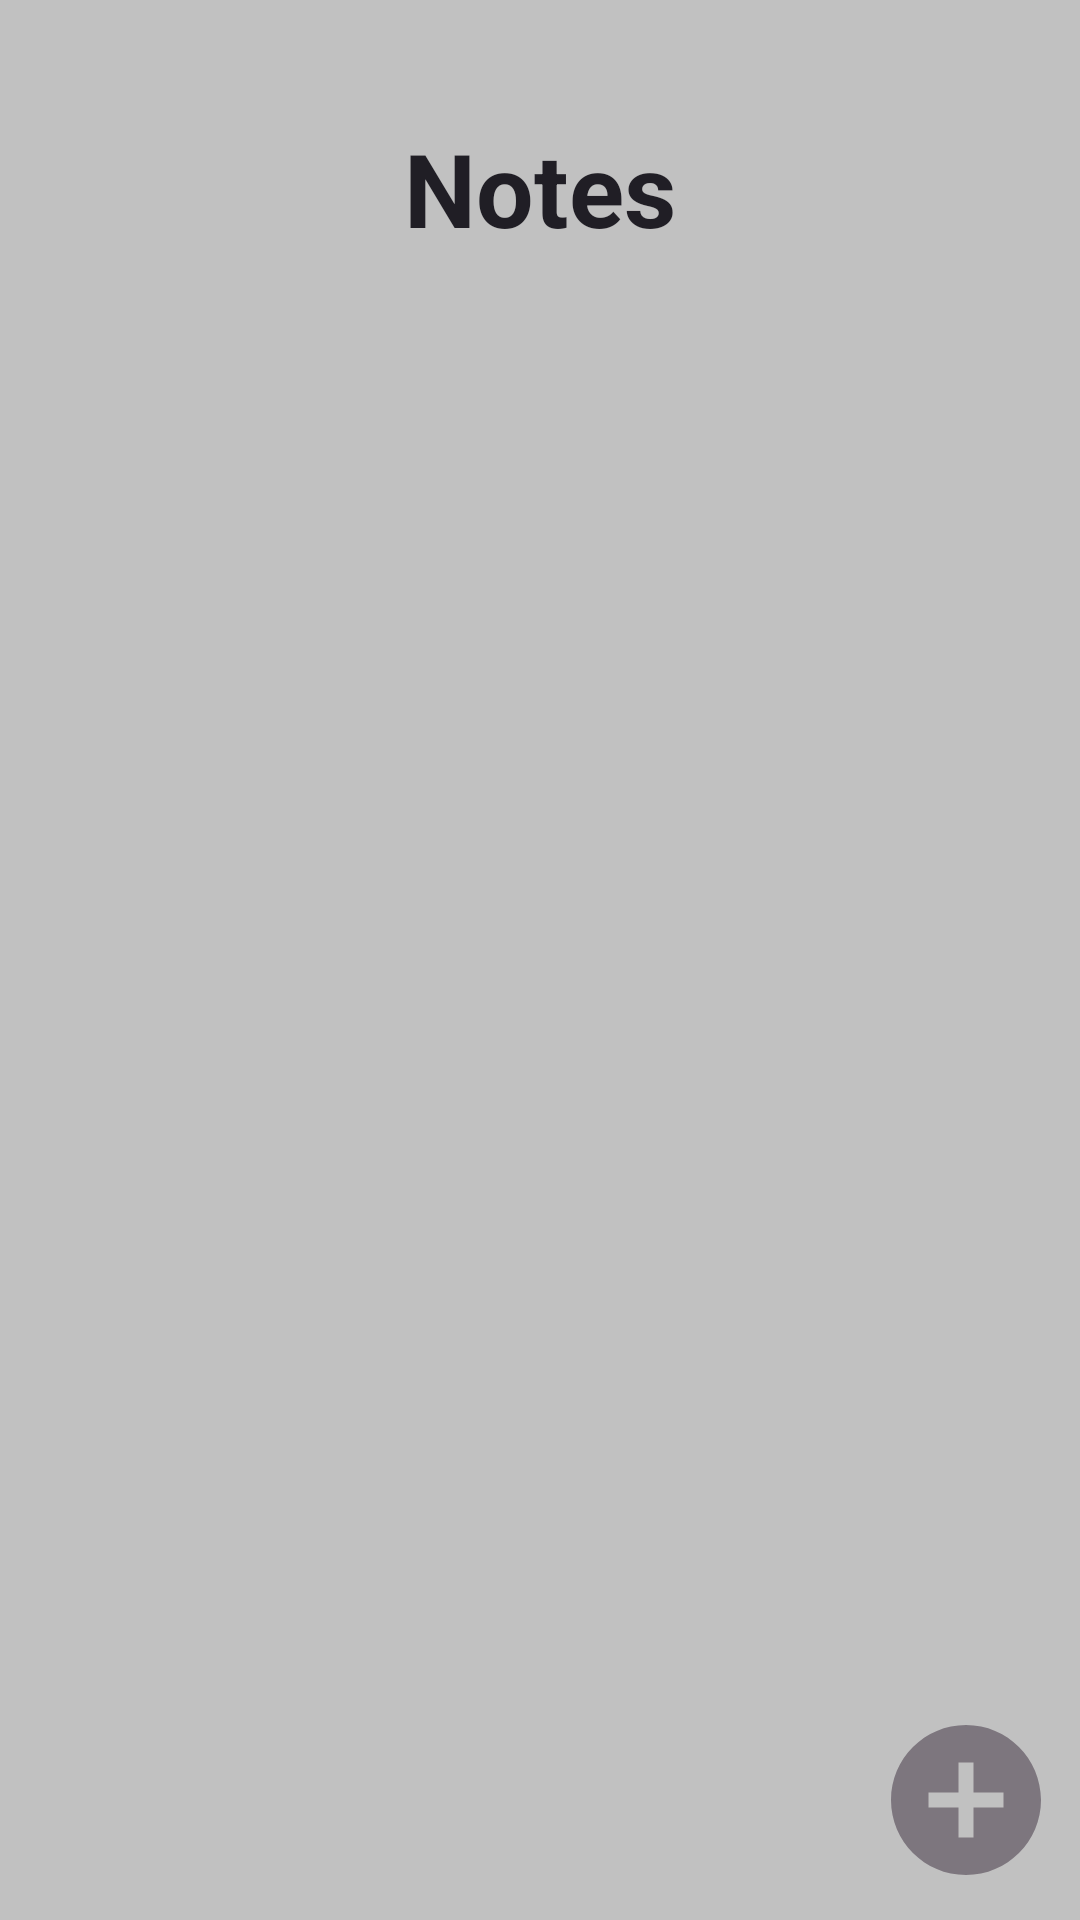

Icons on this 1080*1920 Android screen, each with its box as (x1, y1, x2, y2):
add: (891, 1725, 1041, 1875)
